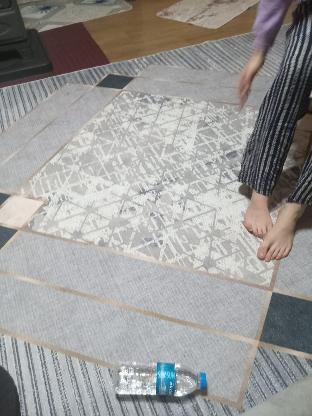Plastic Bottle: (115, 362, 207, 396)
